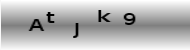9: (122, 13, 136, 25)
A: (27, 18, 45, 33)
J: (72, 22, 79, 39)
k: (98, 10, 112, 23)
t: (45, 11, 55, 24)
